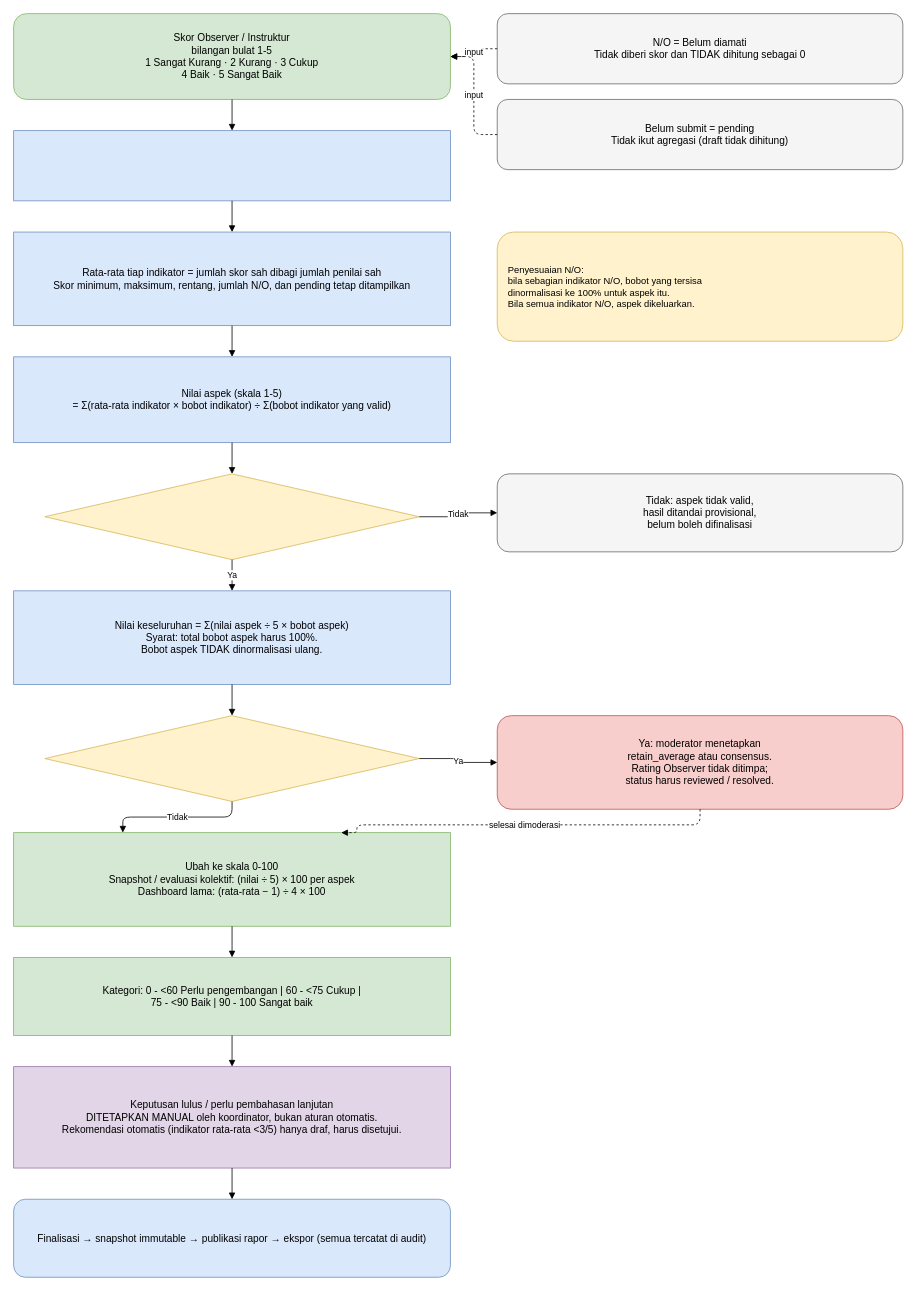
Some shapes in this 916 by 1291 pixel diagram are drawn without their labels. Each missing label, with the centre of its shape:
Coverage tiap aspek ≥ 80%?: the point at 231,516
Rentang skor antar penilai ≥ 2?: the point at 231,758
Saring data: hanya rating dari submission berstatus Submitted / Finalized: the point at 231,165
